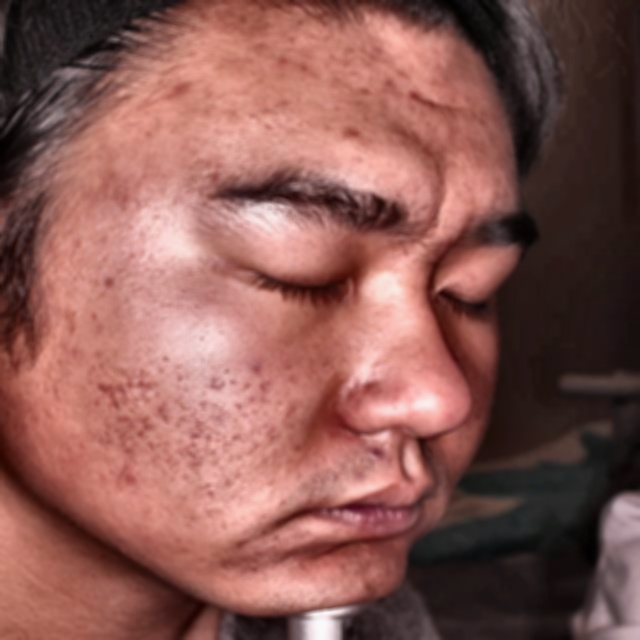comedone: (108, 459, 150, 502), (163, 78, 193, 103)
